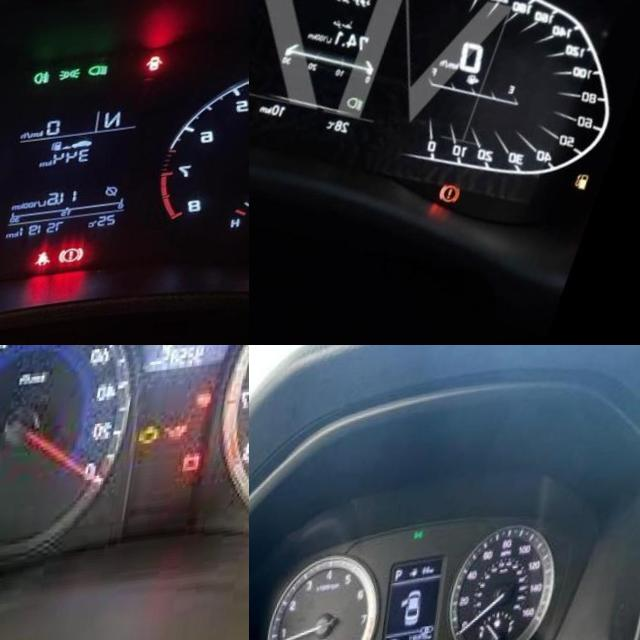Seat Belt: (49, 256, 64, 277)
